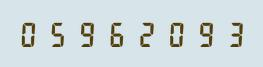five: (45, 20, 72, 47)
nine: (73, 20, 100, 47), (185, 20, 212, 47)
six: (101, 20, 128, 47)
three: (213, 20, 240, 47)
two: (129, 20, 156, 47)
zero: (17, 20, 44, 47), (157, 20, 184, 47)
